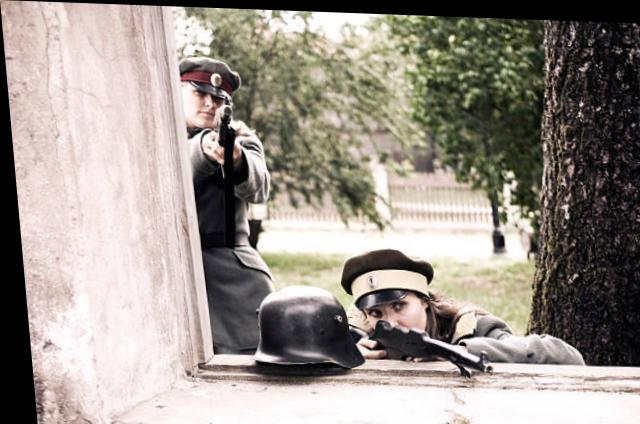other: (172, 54, 279, 347), (327, 244, 572, 360)
